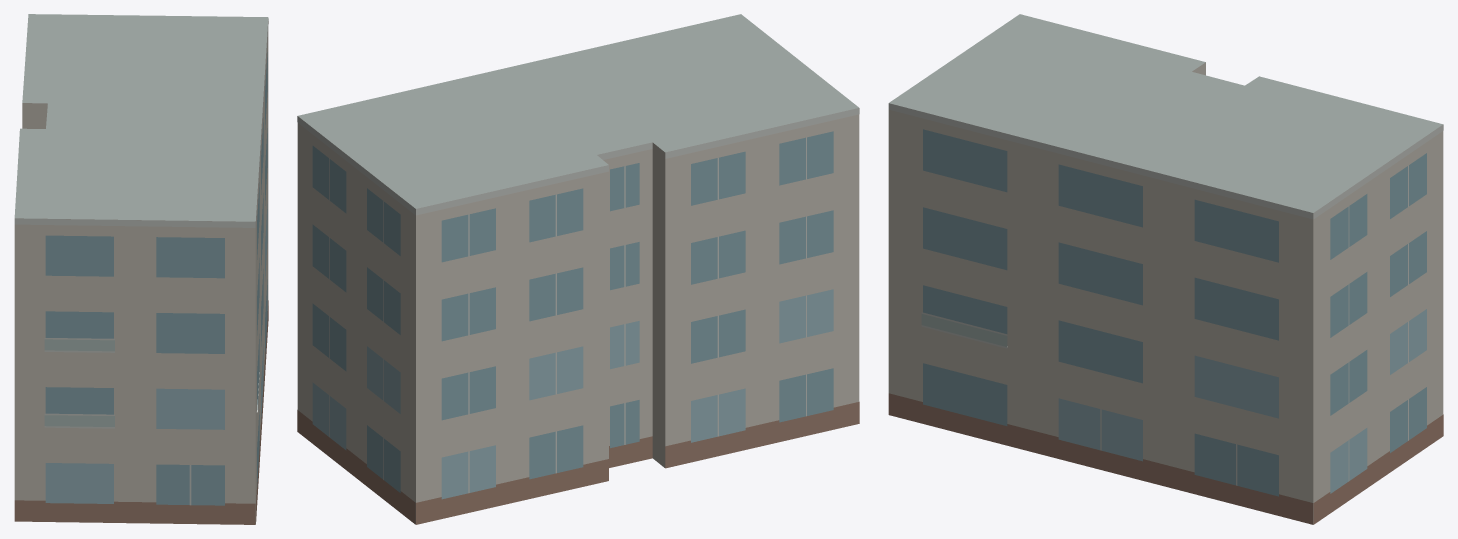
The model's file is survey-upis-32687113.glb.
The picture shows the model from 3 angles, left to right: view 1: azimuth 30°, elevation 25°; view 2: azimuth 150°, elevation 25°; view 3: azimuth 270°, elevation 25°; orthographic projection. The views are drawn at different scales.
Visible parts, largest first — view 1: survey-upis-32687113.tmp; view 2: survey-upis-32687113.tmp; view 3: survey-upis-32687113.tmp.
Part boxes in pixels (box(x1,y1,x2,y2)): survey-upis-32687113.tmp: box(14, 14, 268, 524); survey-upis-32687113.tmp: box(297, 14, 859, 524); survey-upis-32687113.tmp: box(888, 14, 1443, 524).
Bounding box in the file's own units: 16.16 × 11.8 × 19.04.
